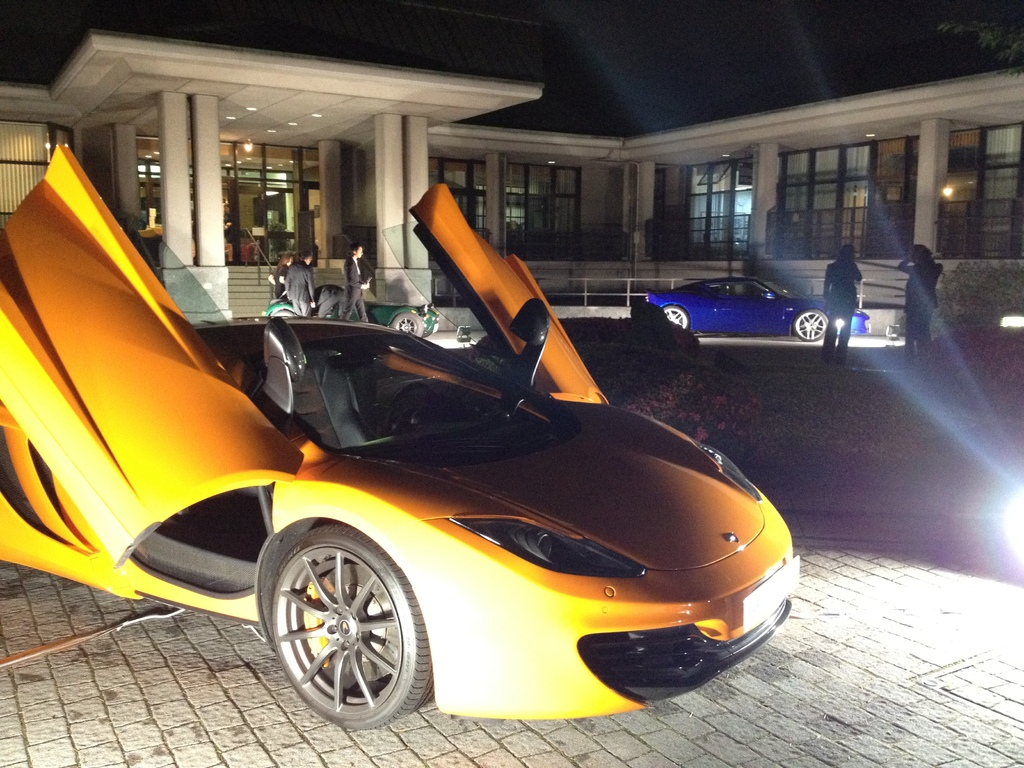person: (897, 242, 944, 357)
